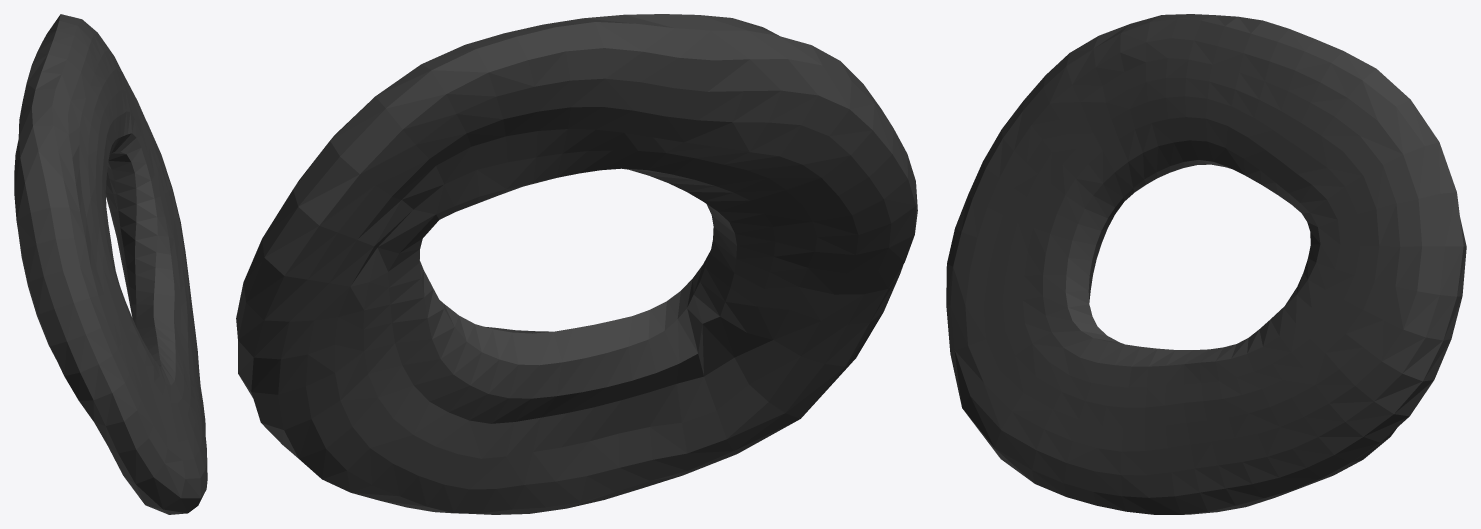
Rendered from Orbic_ocular.glb.
3 renders of one model, left to right at view 1: azimuth 30°, elevation 25°; view 2: azimuth 150°, elevation 25°; view 3: azimuth 270°, elevation 25°, orthographic. The views are drawn at different scales.
Visible parts, largest first — view 1: Orbic_ocular; view 2: Orbic_ocular; view 3: Orbic_ocular.
Boxes of the visible parts, x1,y1,x2,y2 form: Orbic_ocular: (14, 14, 207, 514); Orbic_ocular: (236, 14, 917, 514); Orbic_ocular: (946, 14, 1466, 514).
Size of the model in its own units: 0.403 by 0.5203 by 0.5477.
Materials: 1 (1 with a texture image).
